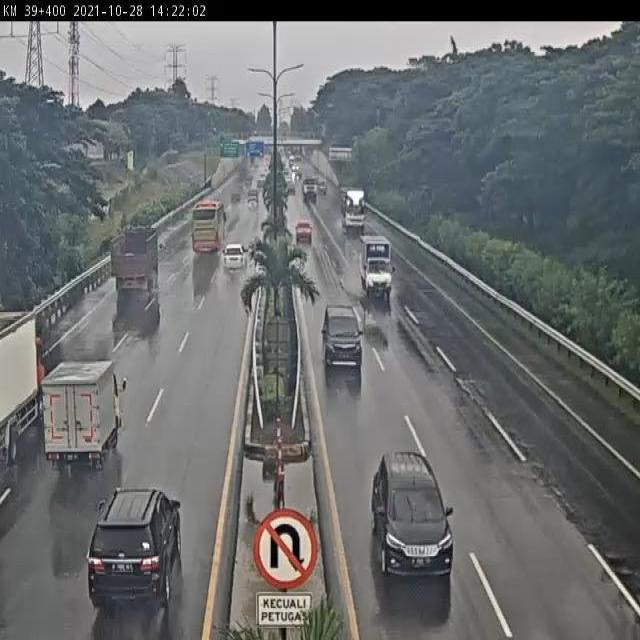big bus: (190, 201, 223, 256)
car: (87, 489, 183, 611), (367, 447, 452, 576), (320, 303, 362, 369), (220, 242, 250, 274), (294, 218, 314, 246)
truck-l-: (0, 305, 43, 455), (111, 229, 159, 291), (337, 184, 367, 233)
truck-s-: (42, 360, 125, 468), (357, 233, 394, 300)
